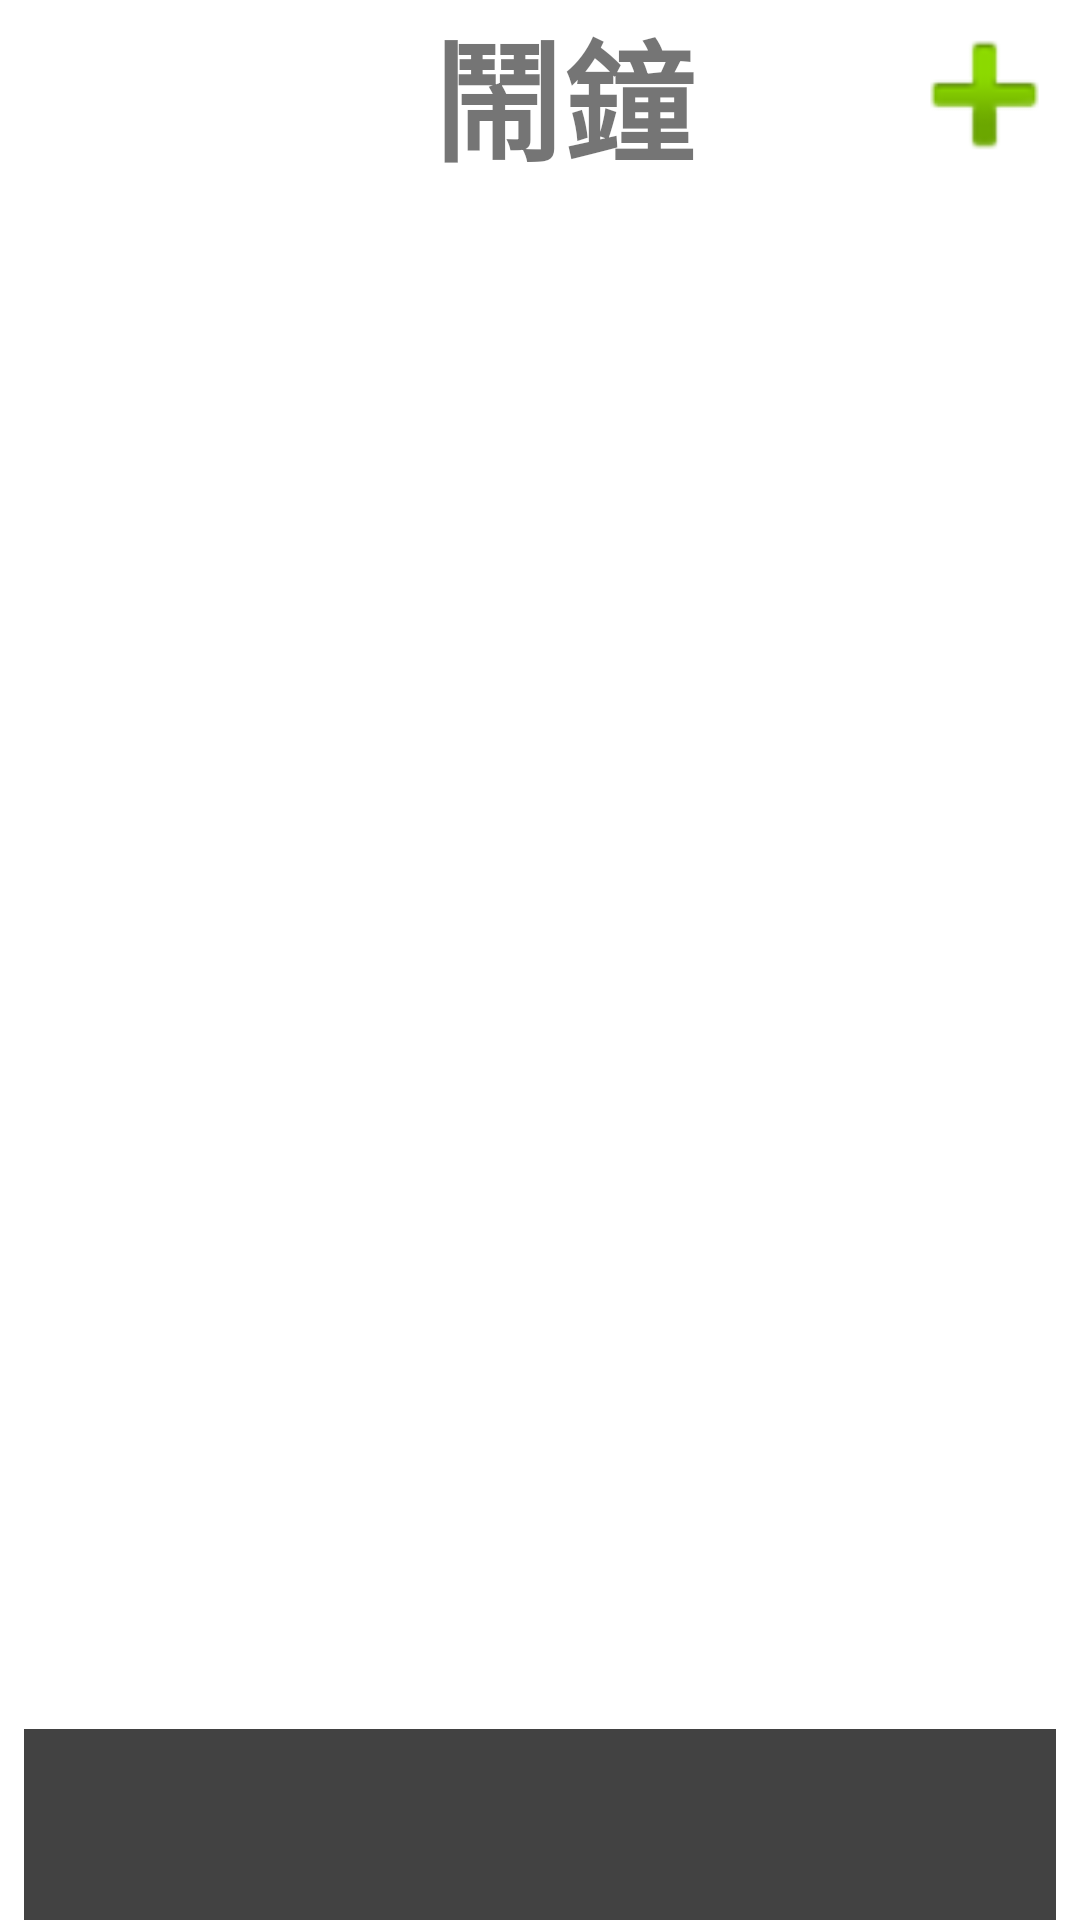

Icon bounding boxes for this 1080px x 1920px phone screenshot, format {"left": x1, "top": y1, "right": x2, "bottom": y2}:
add: {"left": 930, "top": 41, "right": 1039, "bottom": 149}
